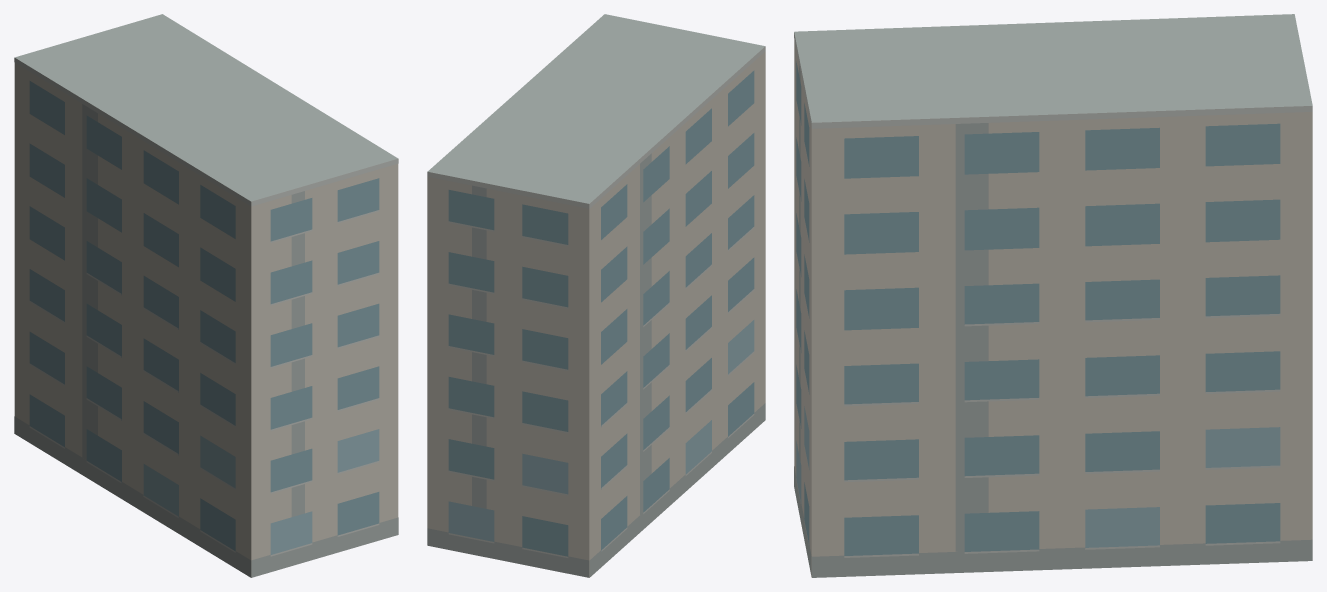
Rendered from survey-upis-32620820.glb.
The picture shows the model from 3 angles, left to right: view 1: azimuth 30°, elevation 25°; view 2: azimuth 150°, elevation 25°; view 3: azimuth 270°, elevation 25°; orthographic projection. The views are drawn at different scales.
Parts seen in each view (by area): view 1: survey-upis-32620820.tmp; view 2: survey-upis-32620820.tmp; view 3: survey-upis-32620820.tmp.
Part boxes in pixels (<box>): survey-upis-32620820.tmp: <box>14,14,398,577</box>; survey-upis-32620820.tmp: <box>427,14,765,577</box>; survey-upis-32620820.tmp: <box>794,14,1312,577</box>.
Size of the model in its own units: 9.39 by 18.3 by 18.91.
